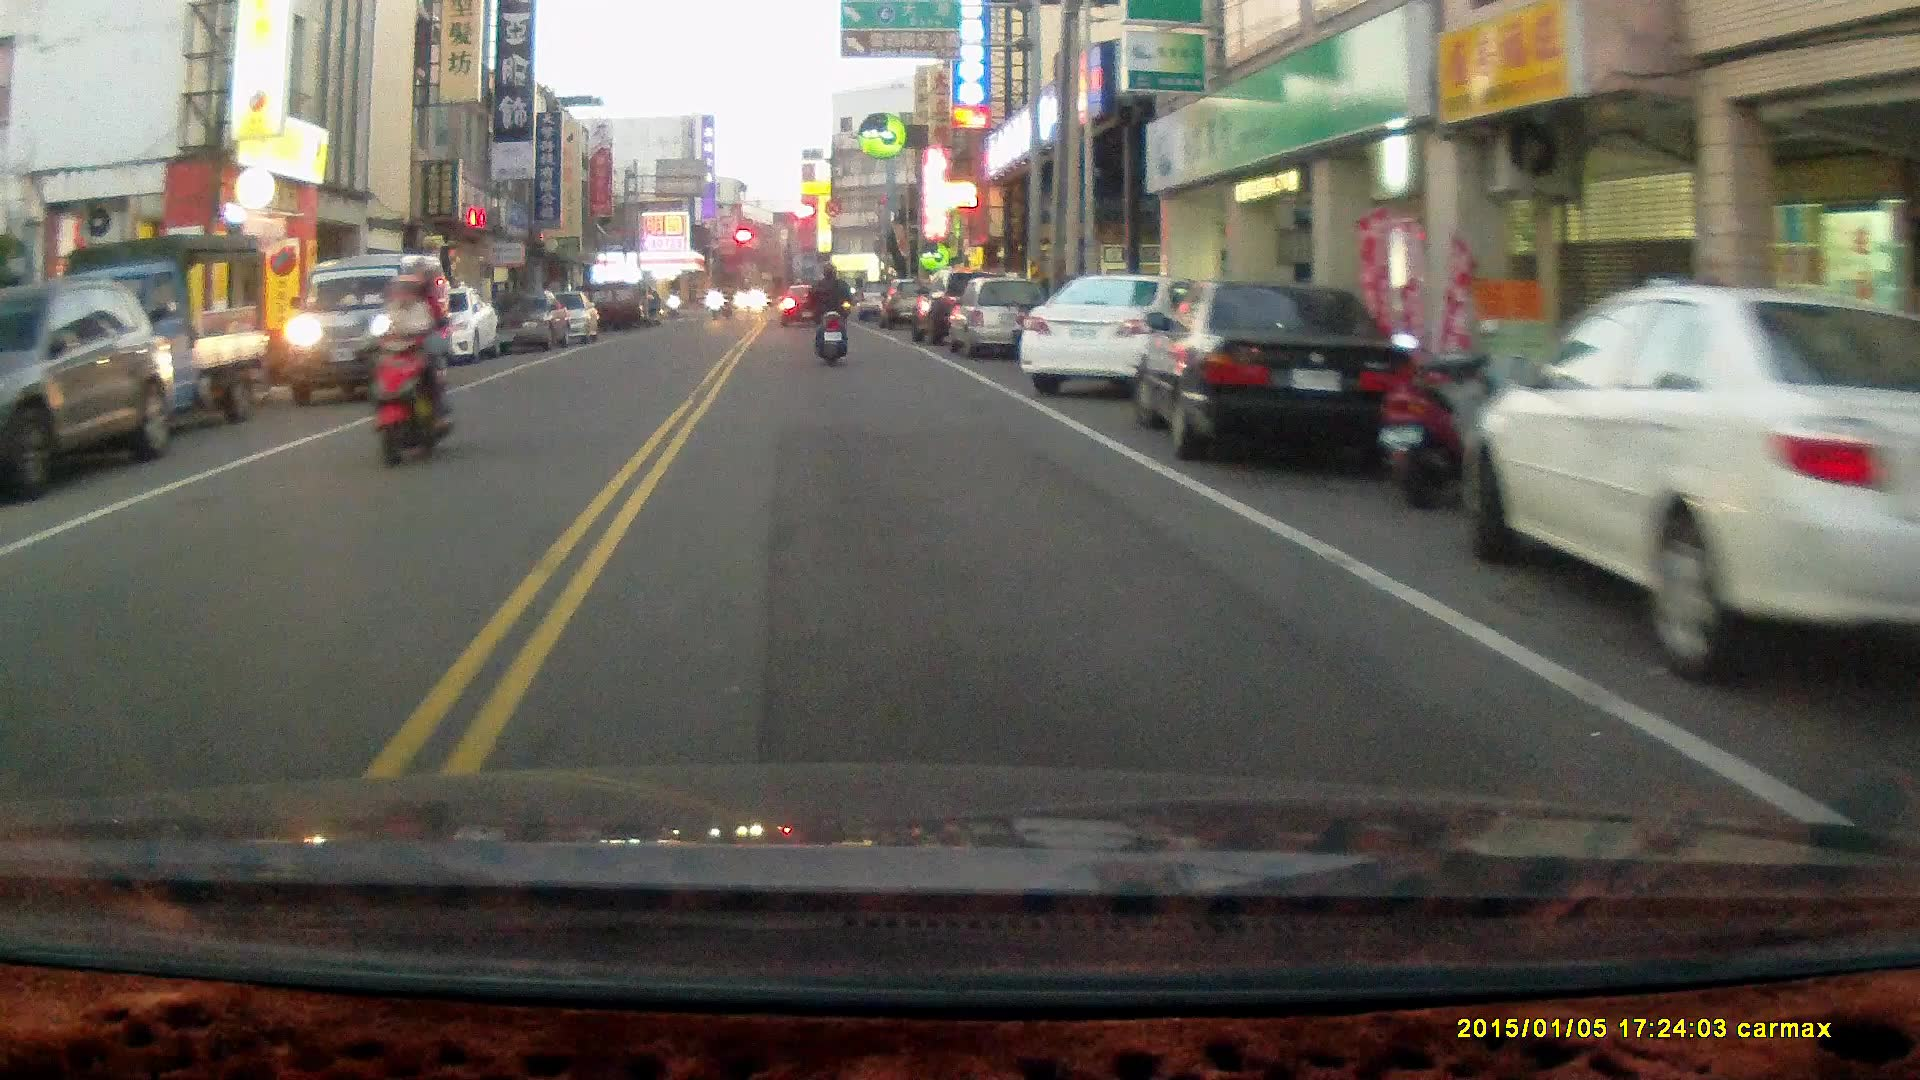rider: (366, 255, 454, 472), (805, 259, 852, 368)
vehicle: (1480, 284, 1920, 685), (1133, 279, 1414, 465), (42, 243, 279, 450), (1, 279, 183, 501), (1018, 273, 1209, 402), (289, 257, 447, 402), (944, 278, 1056, 365)
